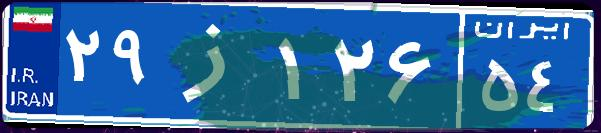1: (273, 28, 330, 110)
2: (330, 28, 385, 110), (57, 26, 110, 107)
4: (525, 38, 570, 115)
5: (475, 38, 525, 113)
6: (385, 28, 445, 110)
9: (110, 28, 158, 105)
ز: (158, 15, 273, 115)
